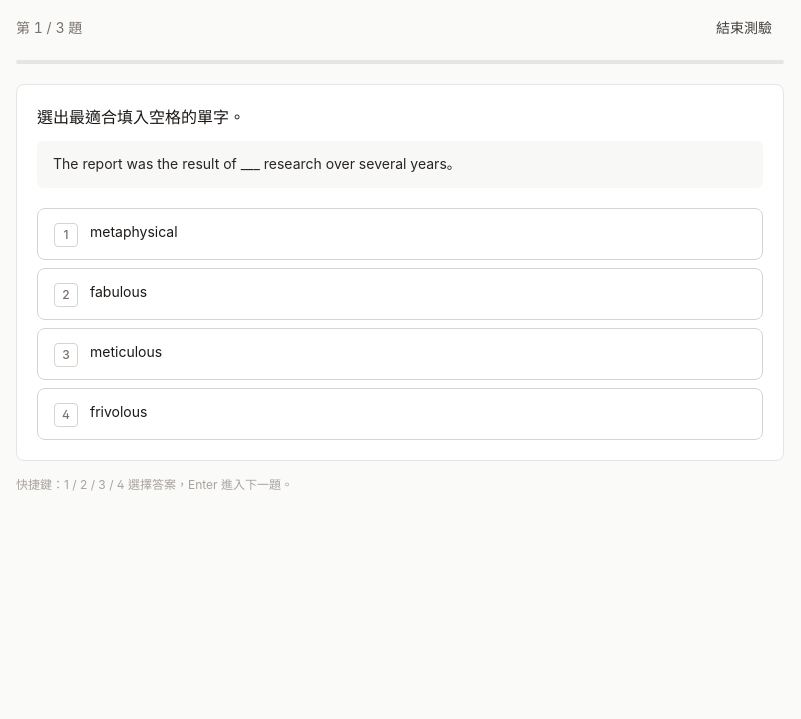
Test case: QuizRunner › marks a correct answer and reveals the explanation
Click the text "meticulous". click: [126, 351]
box: [90, 343, 162, 360]
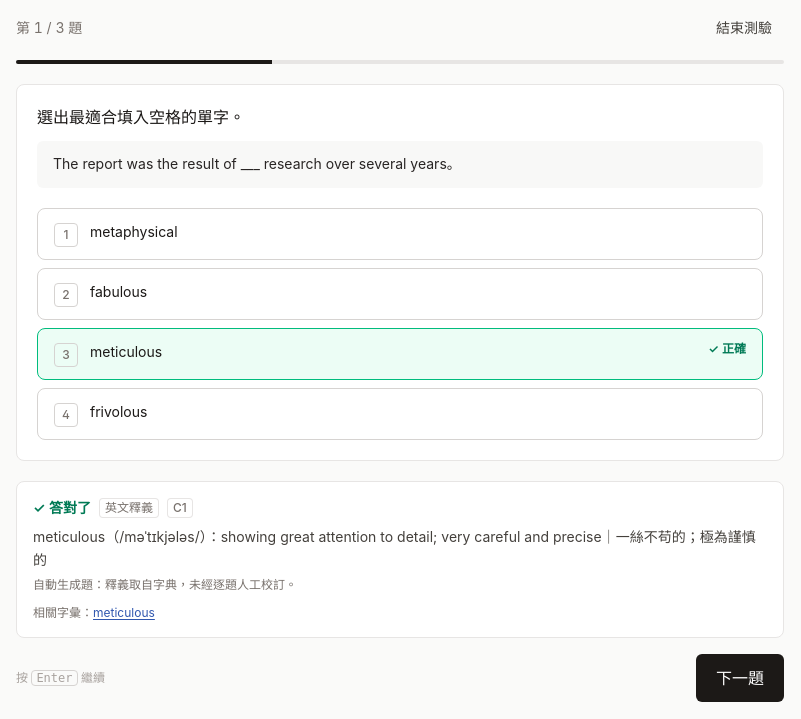
Expected: the text "✓ 答對了" is shown, [33, 498, 91, 518]
